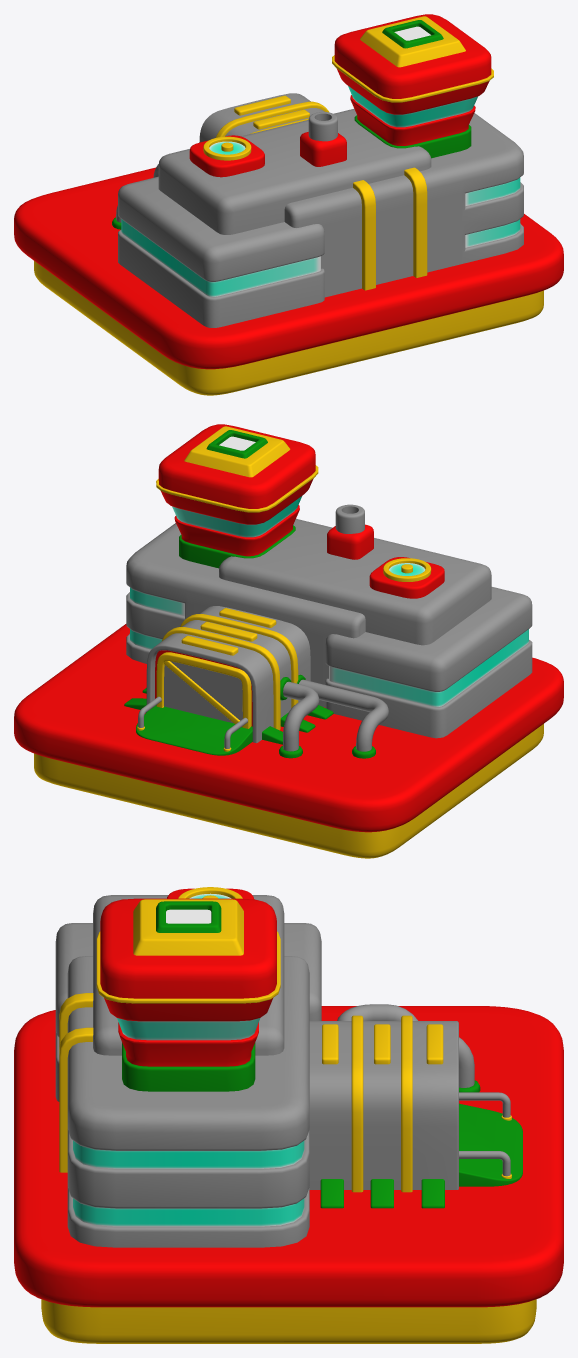
Rendered from Space_Building.FBX.
3 views of the same model, one above another, from view 1: azimuth 30°, elevation 25°; view 2: azimuth 150°, elevation 25°; view 3: azimuth 270°, elevation 25° (orthographic). The views are drawn at different scales.
Visible parts, largest first — view 1: Space_Building, Space_Building_Platform; view 2: Space_Building, Space_Building_Platform; view 3: Space_Building, Space_Building_Platform.
Part boxes in pixels (<box>): Space_Building: <box>112,14,523,327</box>; Space_Building_Platform: <box>14,167,563,395</box>; Space_Building: <box>124,424,532,758</box>; Space_Building_Platform: <box>14,624,563,858</box>; Space_Building: <box>55,887,522,1247</box>; Space_Building_Platform: <box>14,1006,563,1343</box>.
Bounding box in the file's own units: 7098 × 4653 × 6216.
